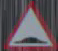Speed Breaker ahead: (7, 2, 57, 48)
